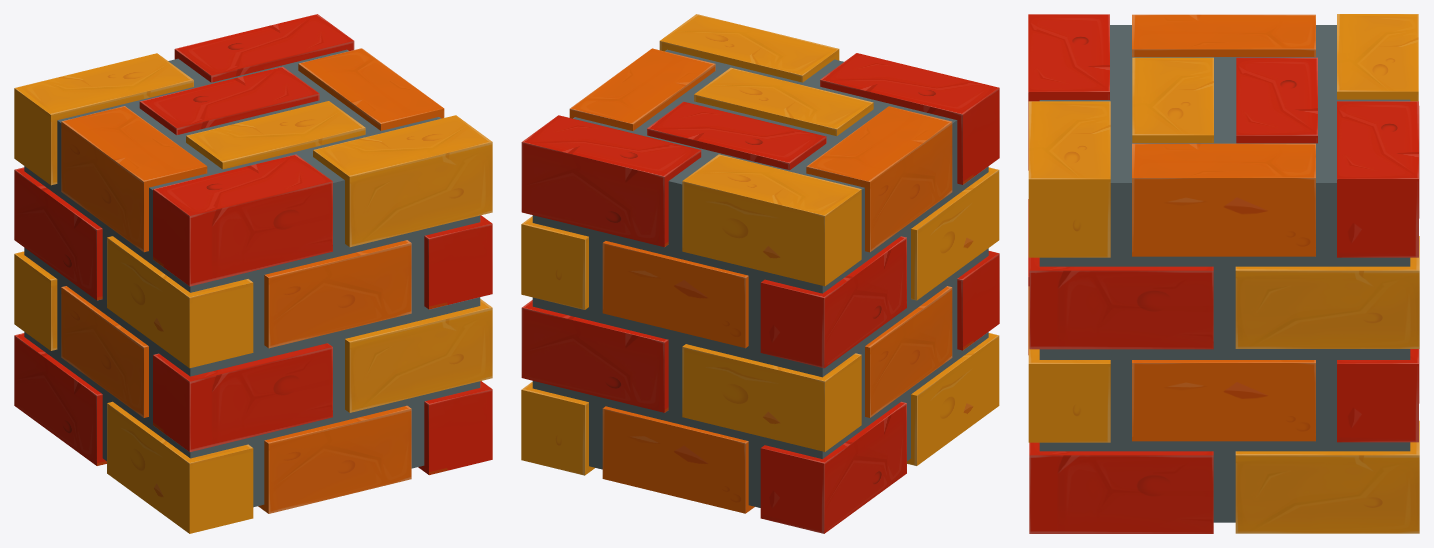
The model's file is Cigle fix.fbx.
3 renders of one model, left to right at view 1: azimuth 30°, elevation 25°; view 2: azimuth 150°, elevation 25°; view 3: azimuth 270°, elevation 25°, orthographic. The views are drawn at different scales.
Visible parts, largest first — view 1: Cube.120; view 2: Cube.120; view 3: Cube.120.
Part boxes in pixels (<box>): Cube.120: <box>14,14,492,533</box>; Cube.120: <box>521,14,999,533</box>; Cube.120: <box>1028,14,1419,533</box>.
Size of the model in its own units: 193 by 193 by 193.
1 material, 1 textured.
